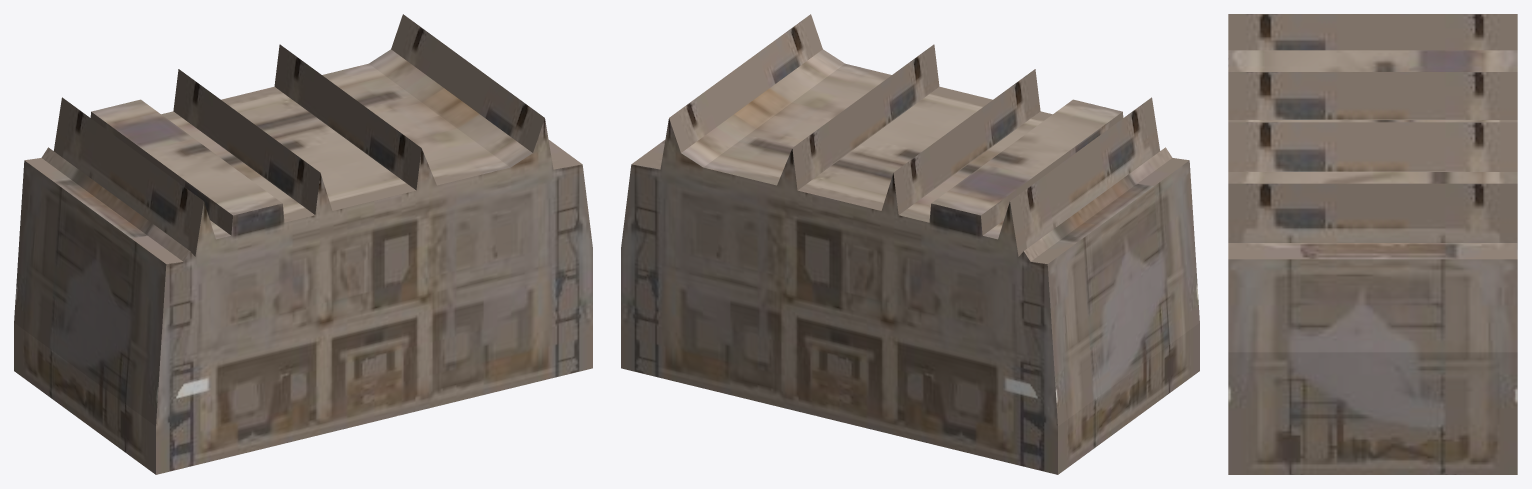
Rendered from bg_city_ruin_1_lod1.glb.
The picture shows the model from 3 angles, left to right: view 1: azimuth 30°, elevation 25°; view 2: azimuth 150°, elevation 25°; view 3: azimuth 270°, elevation 25°; orthographic projection.
Visible parts, largest first — view 1: body; view 2: body; view 3: body.
Part boxes in pixels (left/top/right/bottom): body: left=14, top=14, right=592, bottom=474; body: left=621, top=14, right=1199, bottom=474; body: left=1228, top=14, right=1517, bottom=474.
Size of the model in its own units: 9 by 5.16 by 5.06.
Materials: 1 (1 with a texture image).
